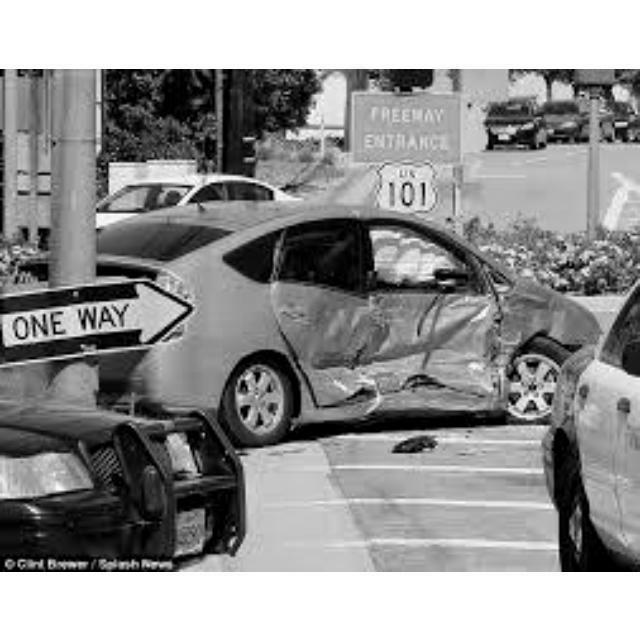Runningboard-Damage: (314, 388, 486, 425)
doorouter-dent: (385, 251, 488, 392), (279, 256, 377, 402)
fender-dent: (502, 271, 595, 344)
